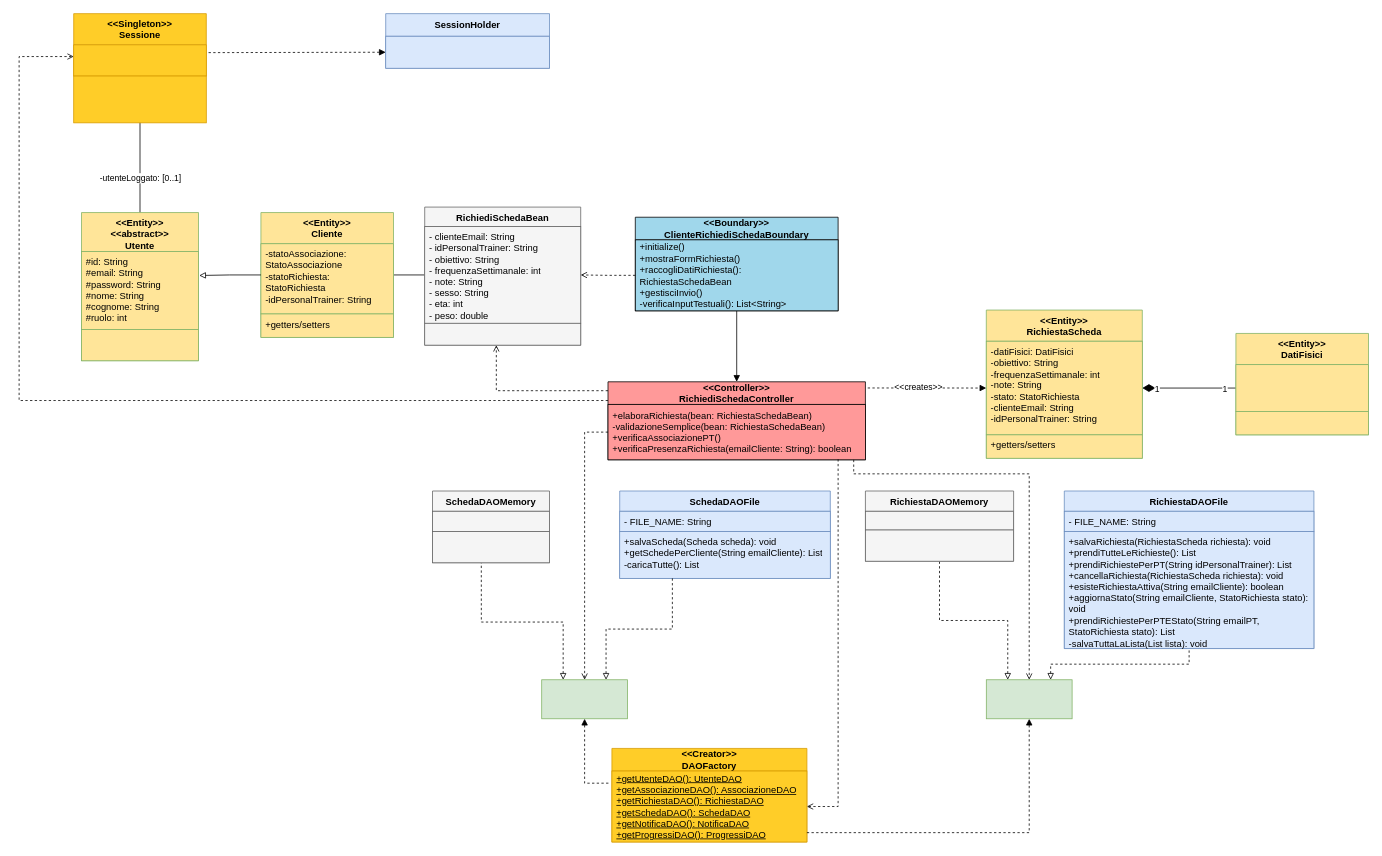
Image size: 1382x856. Some labels were removed from this diagram. The centre of each missing label's shape, as x and y in pixels:
+getInstance(): Sessione +getUtente(): Utente +setUtente(u: Utente): pixel 139 99
+getter/setter: pixel 502 334
+getters: pixel 1302 423
-generaID(): String +getters/setters: pixel 140 345
-INSTANCE: Sessione «static inner»: pixel 467 51
-Sessione() +get/setUtente: pixel 139 60
-sesso: String -eta: int -peso: double: pixel 1302 387
-storage: List<RichiestaScheda>: pixel 939 520
<> Metodi di RichiestaDAO: pixel 939 545
<> Metodi di SchedaDAO: pixel 491 547
storage: List<Scheda>: pixel 491 521
«interface» RichiestaDAO: pixel 1029 699
«interface» SchedaDAO: pixel 584 699
